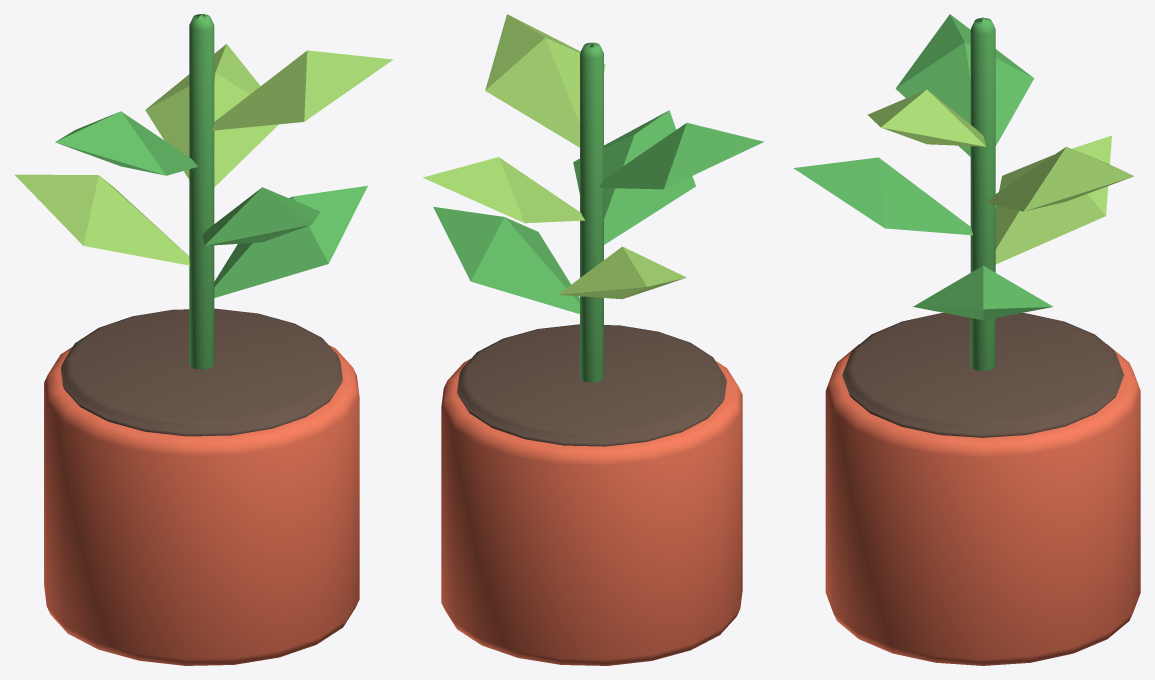
File: Seedling.fbx
The picture shows the model from 3 angles, left to right: view 1: azimuth 30°, elevation 25°; view 2: azimuth 150°, elevation 25°; view 3: azimuth 270°, elevation 25°; orthographic projection. The views are drawn at different scales.
Parts seen in each view (by area): view 1: GEO-Body; view 2: GEO-Body; view 3: GEO-Body.
Part boxes in pixels (left/top/right/bottom): GEO-Body: left=15, top=14, right=393, bottom=665; GEO-Body: left=423, top=14, right=764, bottom=665; GEO-Body: left=793, top=14, right=1140, bottom=665.
Size of the model in its own units: 0.4565 by 0.78 by 0.4191.
